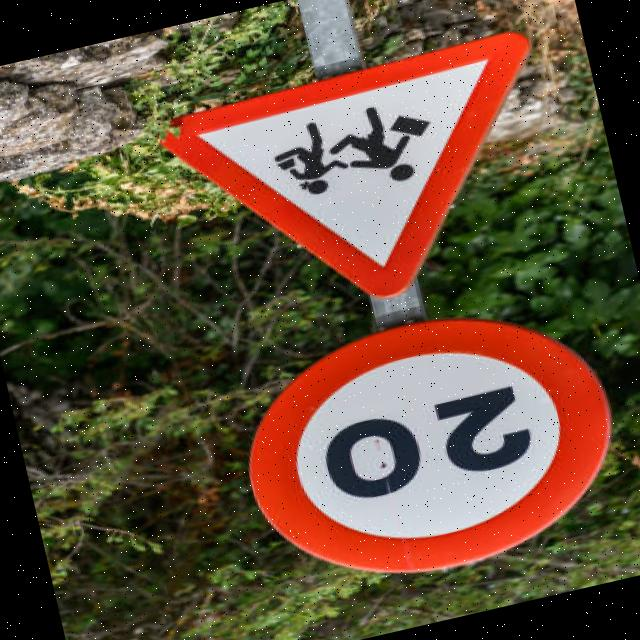speed_limit_20: (193, 268, 640, 631)
